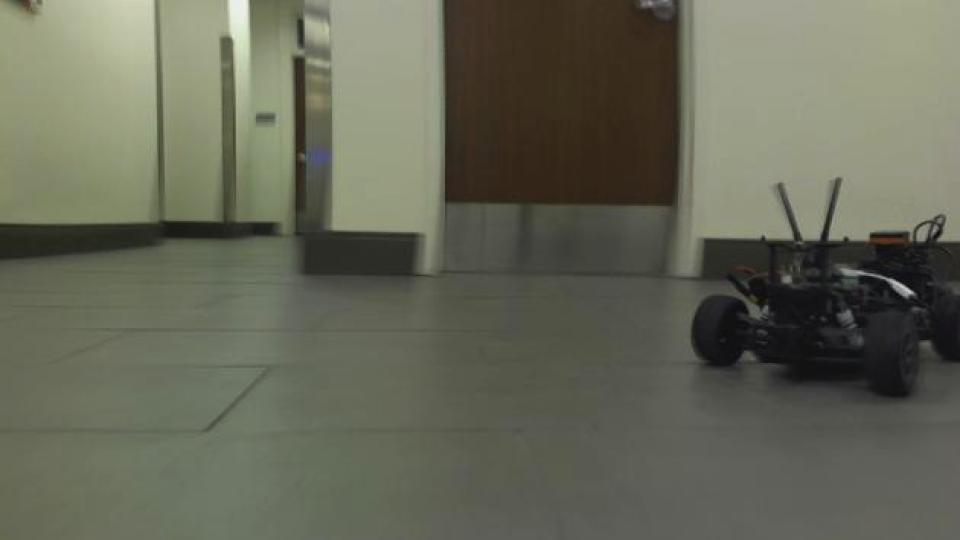car: (687, 174, 960, 400)
